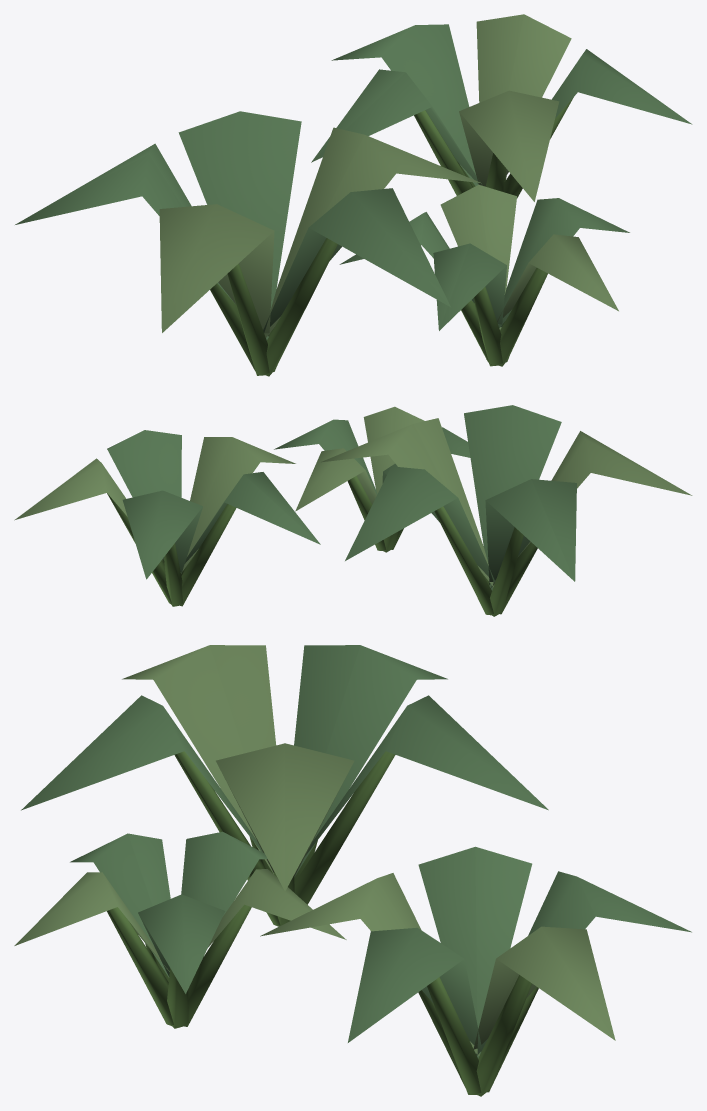
The model's file is sunlit_herb.glb.
3 renders of one model, top to bottom at view 1: azimuth 30°, elevation 25°; view 2: azimuth 150°, elevation 25°; view 3: azimuth 270°, elevation 25°, orthographic. The views are drawn at different scales.
Parts seen in each view (by area): view 1: sunlit_herb_painted_export; view 2: sunlit_herb_painted_export; view 3: sunlit_herb_painted_export.
Boxes of the visible parts, <box> form: sunlit_herb_painted_export: <box>15,14,692,376</box>; sunlit_herb_painted_export: <box>14,405,692,616</box>; sunlit_herb_painted_export: <box>14,645,691,1096</box>.
Size of the model in its own units: 0.7555 by 0.2435 by 0.6347.
